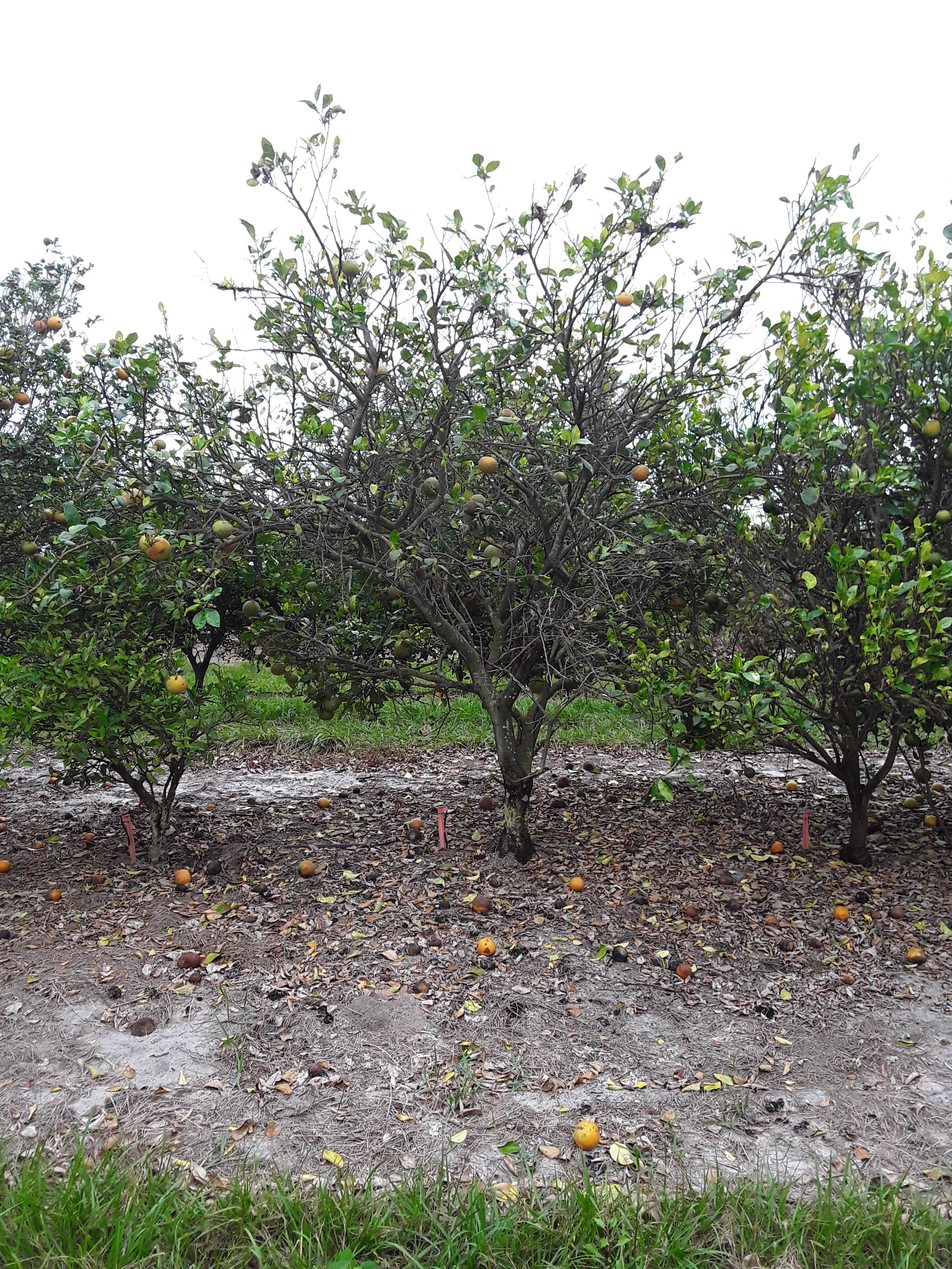fruit_on_ground: (145, 535, 175, 562), (116, 487, 146, 509), (163, 672, 188, 696), (364, 360, 390, 382), (240, 596, 262, 619), (136, 531, 160, 552), (210, 517, 234, 538), (340, 257, 362, 278), (478, 453, 499, 475), (919, 418, 942, 438), (527, 674, 548, 695), (482, 544, 505, 562), (631, 463, 651, 483), (421, 477, 440, 496), (268, 658, 288, 676), (314, 705, 335, 722), (322, 693, 341, 711), (615, 291, 635, 308), (902, 731, 922, 748), (669, 595, 687, 613), (915, 766, 933, 784), (624, 678, 642, 695), (53, 509, 72, 525), (0, 344, 17, 361), (46, 313, 62, 331), (714, 596, 732, 612), (21, 539, 38, 555), (262, 640, 279, 656), (114, 366, 130, 382), (15, 390, 31, 406), (552, 471, 569, 486), (284, 671, 300, 686), (464, 500, 480, 515), (935, 510, 951, 525), (33, 319, 47, 336), (705, 591, 720, 606), (822, 408, 837, 423), (743, 765, 757, 780), (43, 507, 57, 521), (304, 579, 318, 593), (761, 500, 775, 514), (526, 452, 541, 465), (480, 535, 494, 548), (702, 601, 716, 614), (0, 396, 12, 411), (152, 438, 167, 450), (470, 494, 486, 505)
fruit_on_tree: (573, 1120, 602, 1151), (177, 953, 202, 969), (296, 860, 316, 878), (906, 947, 926, 965), (173, 868, 192, 886), (476, 938, 495, 956), (832, 905, 851, 922), (472, 896, 490, 912), (887, 905, 905, 921), (478, 795, 495, 811), (44, 888, 60, 904), (308, 1062, 324, 1078), (569, 876, 585, 892), (676, 962, 692, 978), (412, 979, 428, 994), (923, 814, 939, 829), (770, 841, 785, 856), (902, 796, 918, 810), (555, 775, 570, 788), (188, 972, 202, 985), (930, 781, 945, 793), (785, 780, 798, 793), (808, 937, 822, 949), (410, 818, 423, 830), (582, 759, 595, 771), (685, 906, 698, 918), (316, 797, 330, 808), (0, 861, 12, 873), (912, 793, 924, 804), (870, 911, 883, 920), (47, 776, 58, 786), (32, 840, 43, 850), (84, 832, 95, 841), (49, 771, 59, 778), (102, 781, 111, 788), (207, 803, 216, 810)
